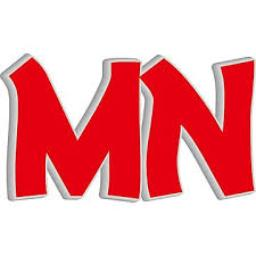m: (0, 41, 142, 213), (132, 44, 256, 232)
